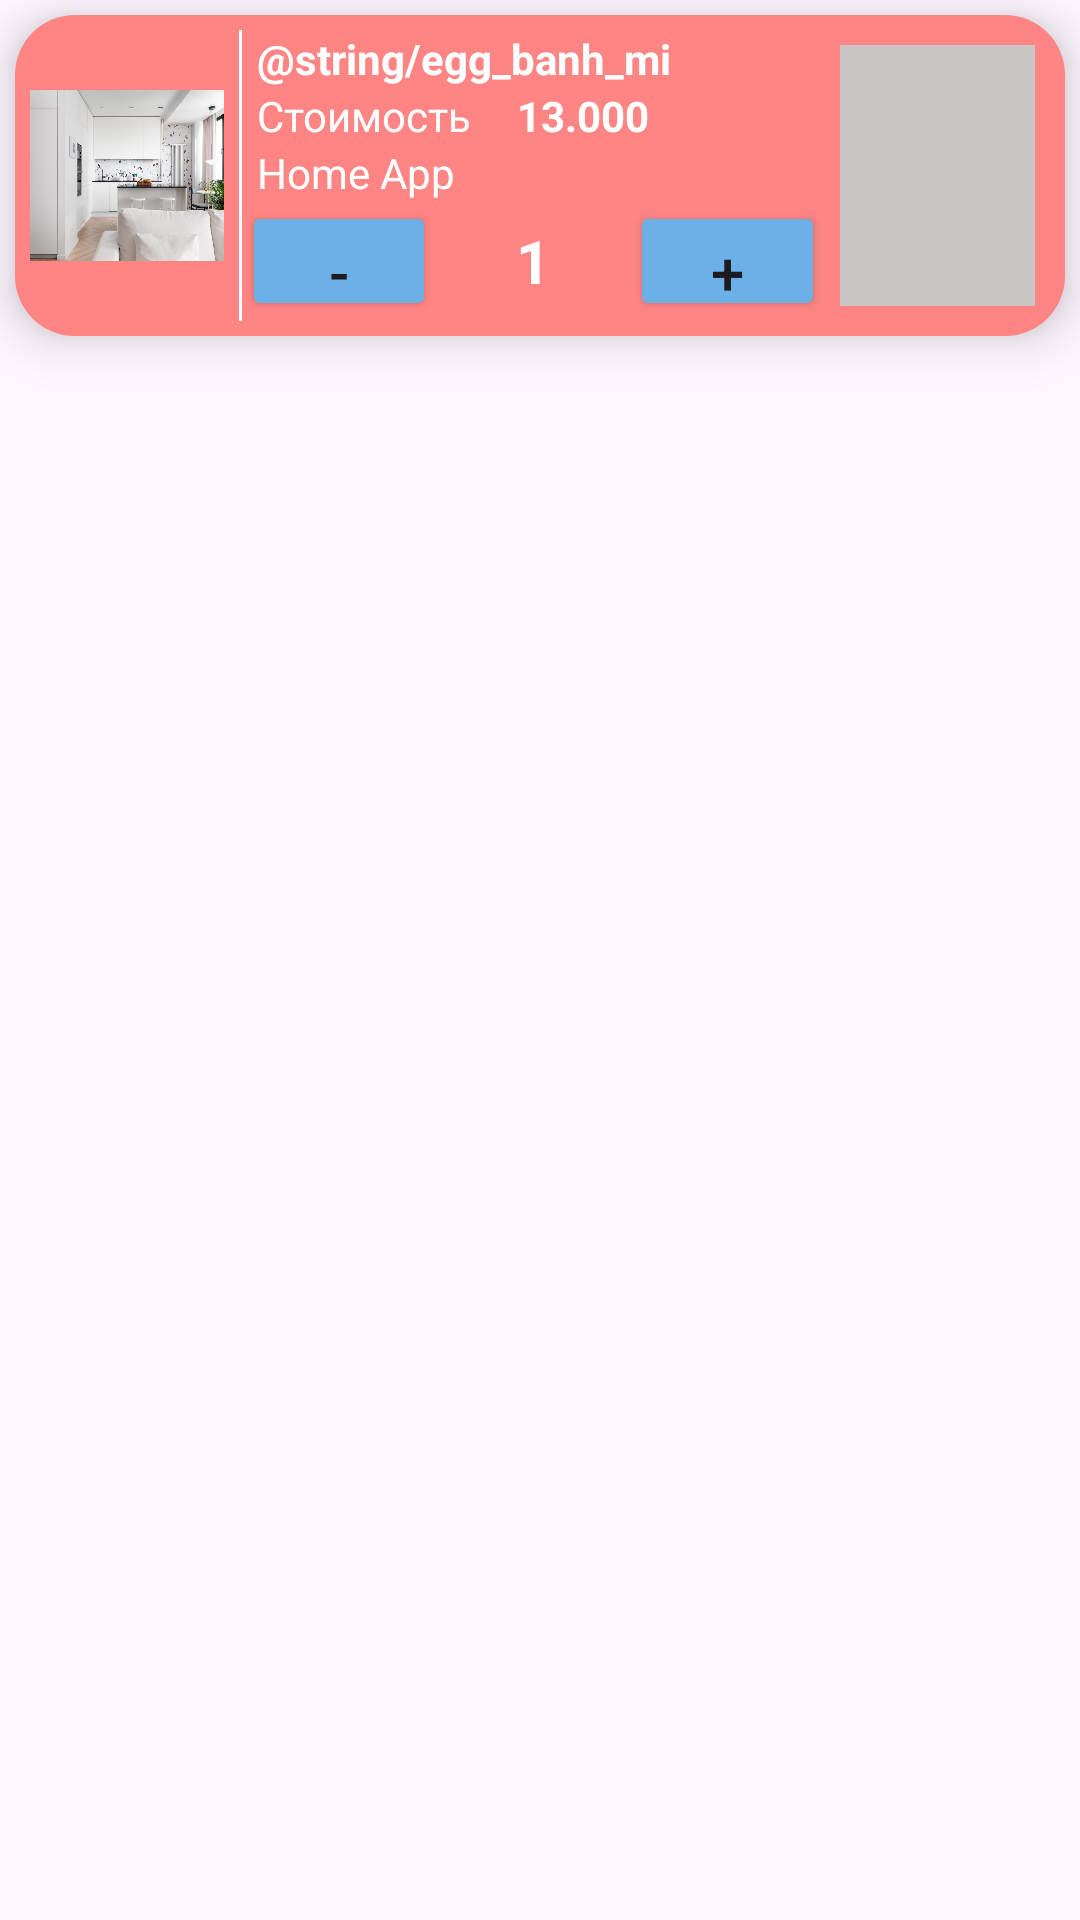

Named icons in this screenshot (1080 × 1920) and their bounding boxes, (x1, y1, x2, y2):
Изображение: (30, 90, 224, 261)
